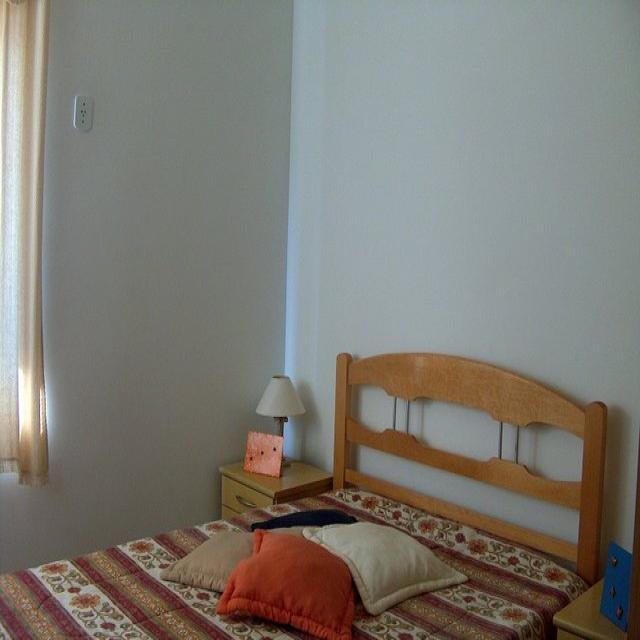bed -occluded-: (1, 346, 608, 639)
curtain crop: (1, 0, 51, 485)
pillow occluded: (218, 529, 353, 636), (303, 525, 461, 608)
table leg: (256, 373, 305, 468)
wall clock: (279, 0, 639, 639), (1, 0, 294, 639)
